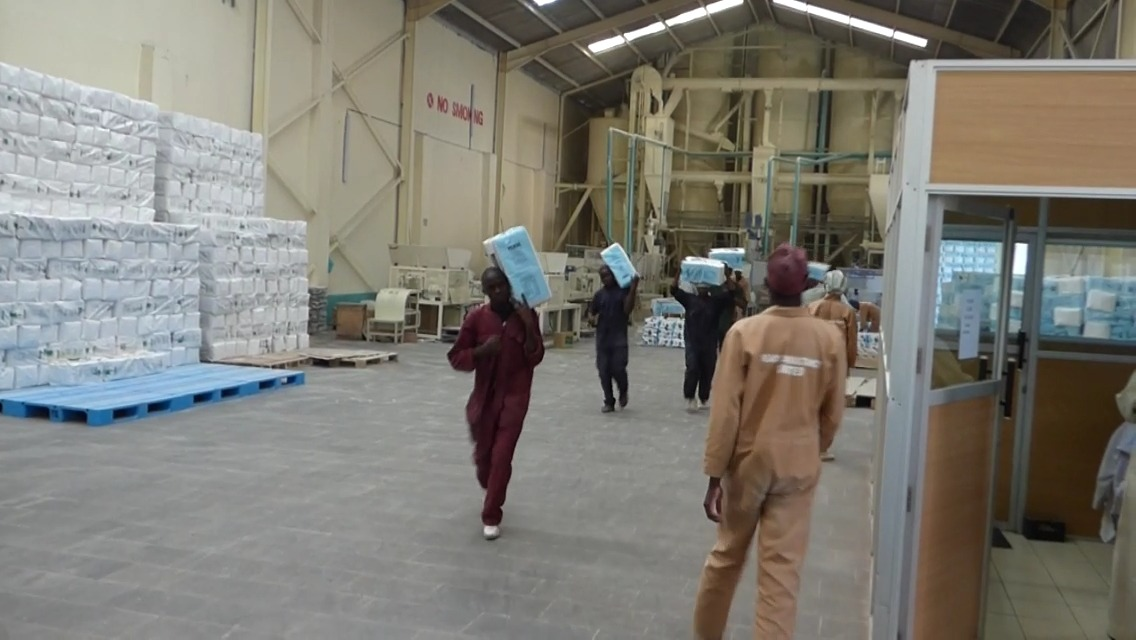wheat_flour_blue_label: (488, 227, 552, 303)
